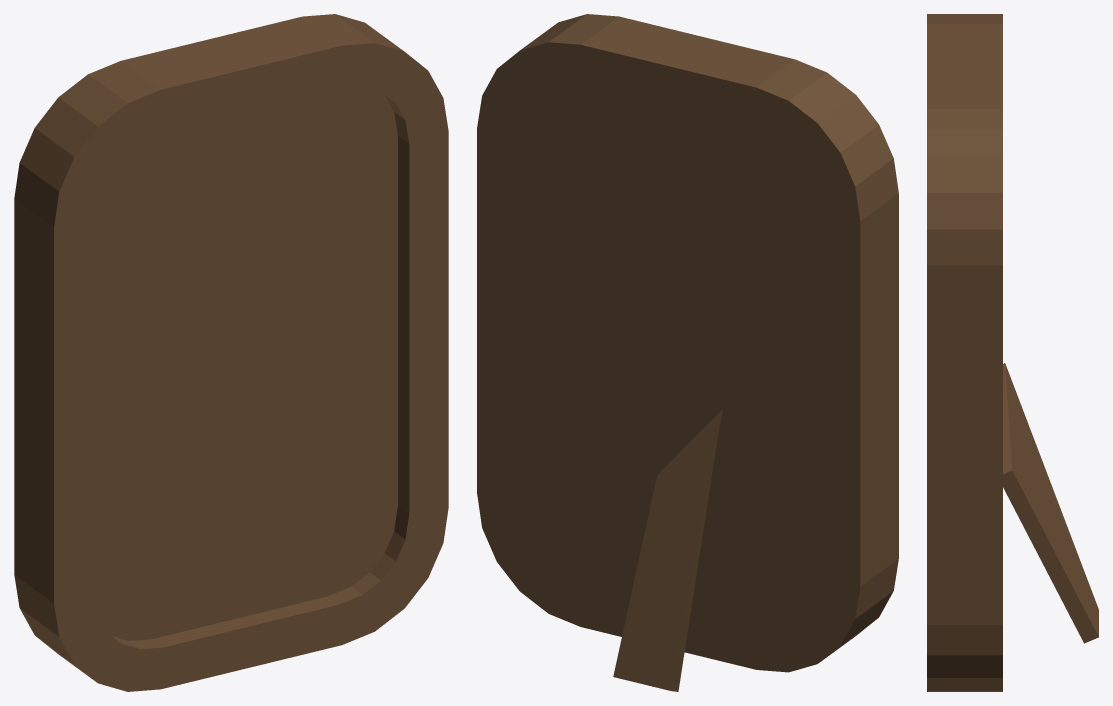
Rendered from supasecret.fbx.
3 renders of one model, left to right at view 1: azimuth 30°, elevation 25°; view 2: azimuth 150°, elevation 25°; view 3: azimuth 270°, elevation 25°, orthographic. The views are drawn at different scales.
Visible parts, largest first — view 1: Cube; view 2: Cube; view 3: Cube.
Part boxes in pixels (x1,y1,x2,y2): Cube: (14, 14, 448, 691); Cube: (477, 14, 898, 691); Cube: (927, 14, 1098, 691).
Bounding box in the file's own units: 41.53 × 60.38 × 16.39.
